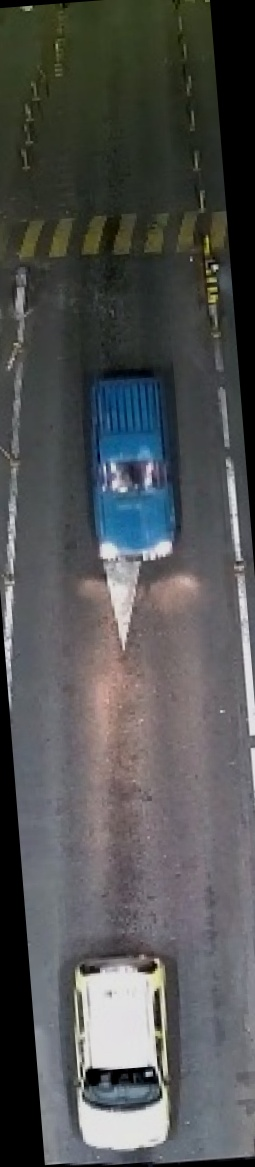car: (56, 940, 187, 1160), (77, 355, 191, 576)
